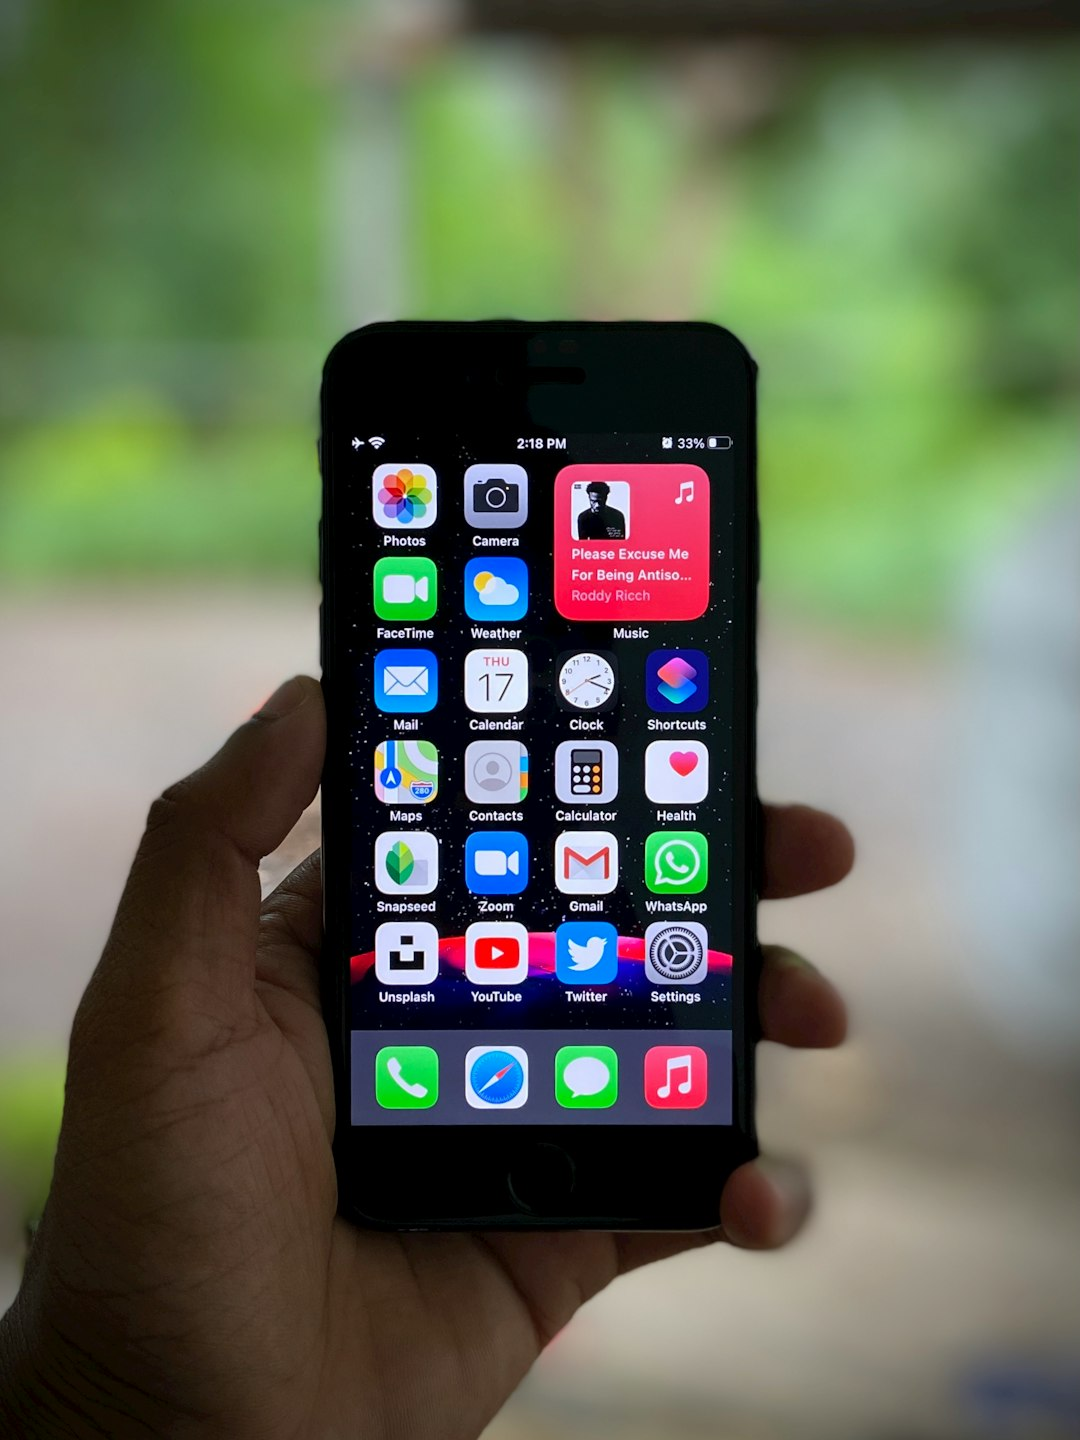phone: (314, 317, 765, 1233)
